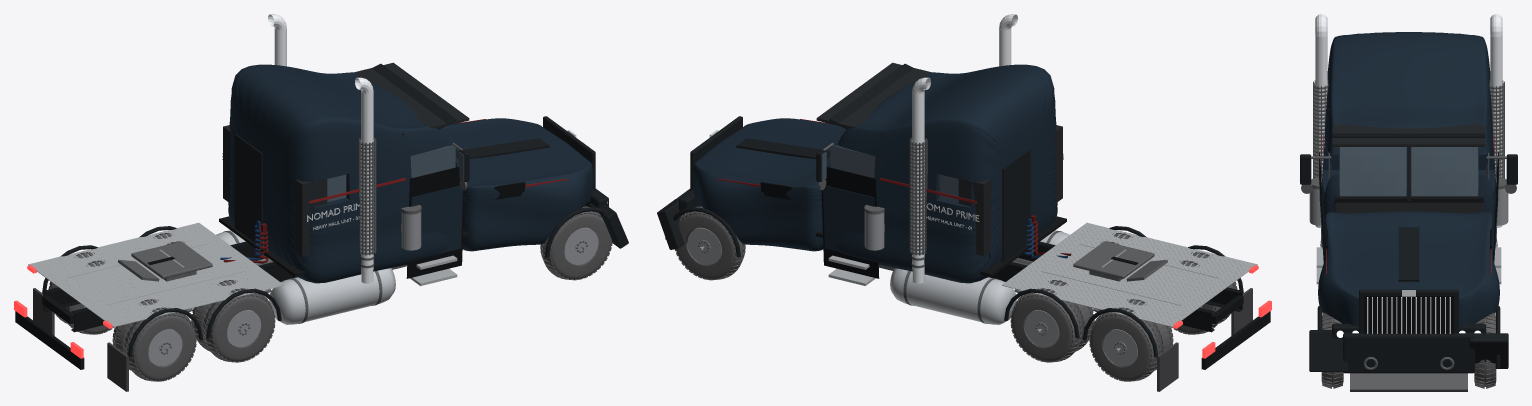
The model's file is nomad-prime.glb.
3 views of the same model, side by side, from view 1: azimuth 30°, elevation 25°; view 2: azimuth 150°, elevation 25°; view 3: azimuth 270°, elevation 25° (orthographic).
Visible parts, largest first — view 1: BodyShell, HoodShell, SaddleTank_R, Wheel_Drive_Axle1_Right_Outer_mesh, Wheel_Drive_Axle2_Right_Outer_mesh, DeckMid_plate, Wheel_Steer_Right_mesh, DeckSideR_plate, DeckSideL_plate, SleeperRearDoor, DoorPanel_R, Headliner (+26 smaller); view 2: BodyShell, HoodShell, SaddleTank_L, Wheel_Drive_Axle1_Left_Outer_mesh, Wheel_Drive_Axle2_Left_Outer_mesh, DeckMid_plate, Wheel_Steer_Left_mesh, DeckSideL_plate, SleeperRearDoor, DeckSideR_plate, DoorPanel_L, Headliner (+26 smaller); view 3: BodyShell, HoodShell, BoxedRam, Windshield_L, Windshield_R, GrilleRecess, Headliner, RamSkid, Dash, RamWing_R, CowlSpine, RamWing_L (+21 smaller).
Boxes of the visible parts, x1,y1,x2,y2 form: BodyShell: (228, 64, 457, 283); HoodShell: (439, 118, 593, 251); SaddleTank_R: (269, 268, 395, 324); Wheel_Drive_Axle1_Right_Outer_mesh: (203, 288, 275, 362); Wheel_Drive_Axle2_Right_Outer_mesh: (124, 307, 196, 381); DeckMid_plate: (67, 244, 243, 305); Wheel_Steer_Right_mesh: (540, 206, 612, 280); DeckSideR_plate: (105, 271, 268, 323); DeckSideL_plate: (43, 226, 206, 278); SleeperRearDoor: (234, 134, 262, 246); DoorPanel_R: (410, 185, 462, 260); Headliner: (355, 62, 469, 128); BodyShell: (828, 64, 1057, 283); HoodShell: (692, 118, 846, 251); SaddleTank_L: (890, 268, 1016, 324); Wheel_Drive_Axle1_Left_Outer_mesh: (1010, 288, 1082, 362); Wheel_Drive_Axle2_Left_Outer_mesh: (1089, 307, 1161, 381); DeckMid_plate: (1042, 244, 1218, 305); Wheel_Steer_Left_mesh: (674, 206, 745, 280); DeckSideL_plate: (1017, 271, 1180, 323); SleeperRearDoor: (1002, 149, 1030, 262); DeckSideR_plate: (1079, 226, 1242, 278); DoorPanel_L: (823, 185, 875, 260); Headliner: (816, 62, 930, 128); BodyShell: (1321, 32, 1496, 257); HoodShell: (1318, 211, 1499, 325); BoxedRam: (1343, 332, 1474, 373); Windshield_L: (1411, 147, 1478, 196); Windshield_R: (1339, 147, 1406, 196); GrilleRecess: (1364, 295, 1453, 333); Headliner: (1332, 124, 1485, 146); RamSkid: (1350, 373, 1467, 391); Dash: (1334, 202, 1483, 213); RamWing_R: (1309, 330, 1348, 371); CowlSpine: (1398, 226, 1419, 281); RamWing_L: (1469, 333, 1508, 368).
Size of the model in its own units: 8.93 by 4.15 by 3.14.
